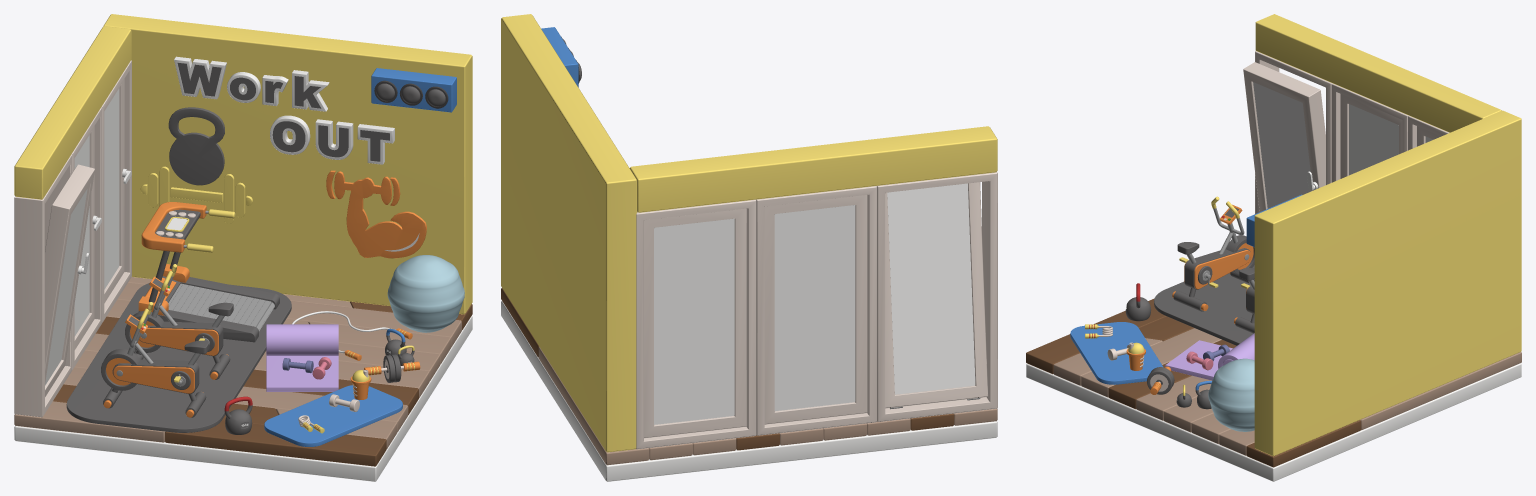
File: Gym_25.glb
3 renders of one model, left to right at view 1: azimuth 30°, elevation 25°; view 2: azimuth 150°, elevation 25°; view 3: azimuth 270°, elevation 25°, orthographic. The views are drawn at different scales.
Parts seen in each view (by area): view 1: Room_5_Gym_Wall_1, Room_5_Gym_Floor_6, Room_5_Gym_Window_1, Room_5_Gym_Mat_1, Room_5_Gym_Treadmill_1, Room_5_Gym_Sign_3, Room_5_Gym_Wall_2, Room_5_Gym_Floor_1, Room_5_Gym_Window_3, Room_5_Gym_Sign_1, Room_5_Gym_Window_2, Room_5_Gym_Fitness_Ball_1 (+10 smaller); view 2: Room_5_Gym_Wall_1, Room_5_Gym_Window_2, Room_5_Gym_Window_3, Room_5_Gym_Window_1, Room_5_Gym_Wall_2, Room_5_Gym_Floor_1, Room_5_Gym_Floor_6, Room_5_Gym_Speaker_1; view 3: Room_5_Gym_Wall_1, Room_5_Gym_Floor_6, Room_5_Gym_Window_1, Room_5_Gym_Wall_2, Room_5_Gym_Floor_1, Room_5_Gym_Window_2, Room_5_Gym_Mat_1, Room_5_Gym_Stationary_Bike_1, Room_5_Gym_Yoga_Mat_1, Room_5_Gym_Fitness_Ball_1, Room_5_Gym_Yoga_Mat_2, Room_5_Gym_Window_3 (+3 smaller).
Part boxes in pixels (bbox=[...]): Room_5_Gym_Wall_1: bbox=[103, 14, 472, 314]; Room_5_Gym_Floor_6: bbox=[14, 277, 472, 466]; Room_5_Gym_Window_1: bbox=[14, 154, 94, 417]; Room_5_Gym_Mat_1: bbox=[66, 283, 291, 432]; Room_5_Gym_Treadmill_1: bbox=[138, 202, 279, 342]; Room_5_Gym_Sign_3: bbox=[174, 56, 394, 164]; Room_5_Gym_Wall_2: bbox=[14, 26, 131, 199]; Room_5_Gym_Floor_1: bbox=[14, 316, 472, 481]; Room_5_Gym_Window_3: bbox=[101, 60, 131, 322]; Room_5_Gym_Sign_1: bbox=[140, 107, 252, 223]; Room_5_Gym_Window_2: bbox=[72, 107, 102, 369]; Room_5_Gym_Fitness_Ball_1: bbox=[387, 255, 464, 332]; Room_5_Gym_Wall_1: bbox=[501, 14, 637, 452]; Room_5_Gym_Window_2: bbox=[756, 186, 877, 435]; Room_5_Gym_Window_3: bbox=[636, 199, 756, 449]; Room_5_Gym_Window_1: bbox=[877, 172, 997, 421]; Room_5_Gym_Wall_2: bbox=[629, 126, 997, 212]; Room_5_Gym_Floor_1: bbox=[501, 301, 997, 481]; Room_5_Gym_Floor_6: bbox=[501, 288, 997, 465]; Room_5_Gym_Speaker_1: bbox=[541, 27, 581, 87]; Room_5_Gym_Wall_1: bbox=[1254, 110, 1521, 456]; Room_5_Gym_Floor_6: bbox=[1026, 299, 1521, 467]; Room_5_Gym_Window_1: bbox=[1243, 51, 1331, 213]; Room_5_Gym_Wall_2: bbox=[1255, 14, 1501, 132]; Room_5_Gym_Floor_1: bbox=[1026, 363, 1521, 481]; Room_5_Gym_Window_2: bbox=[1331, 83, 1408, 182]; Room_5_Gym_Mat_1: bbox=[1154, 265, 1254, 345]; Room_5_Gym_Stationary_Bike_1: bbox=[1172, 196, 1254, 311]; Room_5_Gym_Yoga_Mat_1: bbox=[1070, 322, 1163, 384]; Room_5_Gym_Fitness_Ball_1: bbox=[1208, 358, 1254, 431]; Room_5_Gym_Yoga_Mat_2: bbox=[1165, 333, 1254, 380]; Room_5_Gym_Window_3: bbox=[1408, 115, 1449, 150].
Bounding box in the file's own units: 7.04 × 4.06 × 7.03.
1 material, 1 textured.
